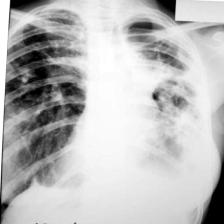tuberculosis: (1, 1, 215, 224)
